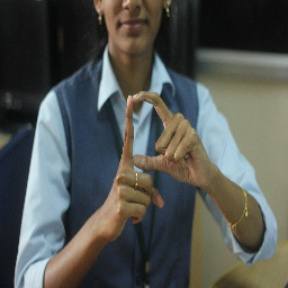D: (111, 86, 192, 189)
